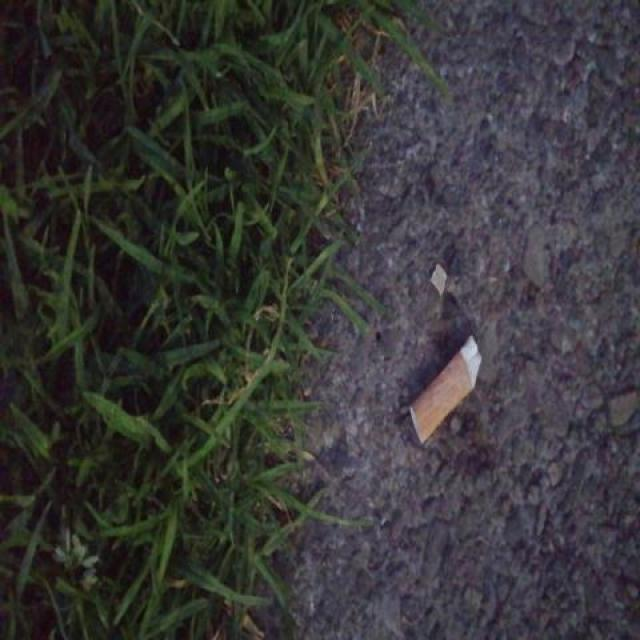non-organic waste: (408, 327, 485, 453)
